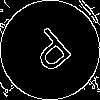P: (25, 25, 80, 82)
